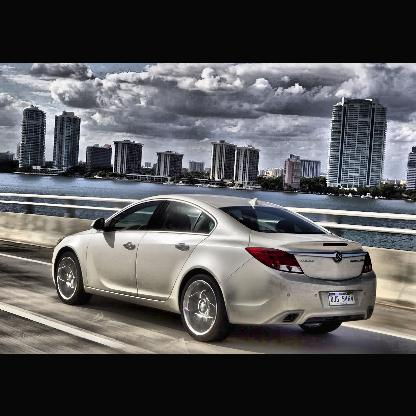Buick Regal GS 2012: (53, 194, 377, 341)
